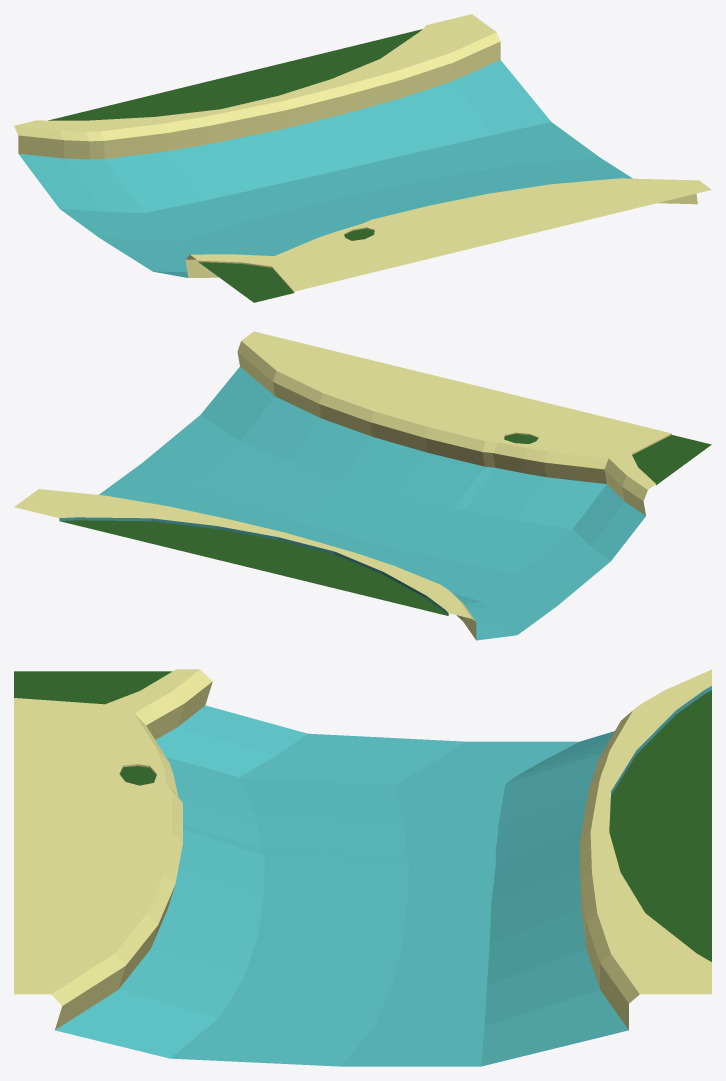
The model's file is Pescaria mapa V1.fbx.
3 renders of one model, top to bottom at view 1: azimuth 30°, elevation 25°; view 2: azimuth 150°, elevation 25°; view 3: azimuth 270°, elevation 25°, orthographic. The views are drawn at different scales.
Parts seen in each view (by area): view 1: Plane; view 2: Plane; view 3: Plane.
Part boxes in pixels (left/top/right/bottom): Plane: left=14, top=14, right=711, bottom=302; Plane: left=14, top=331, right=711, bottom=640; Plane: left=14, top=669, right=711, bottom=1066.
Size of the model in its own units: 30977 by 3211 by 28120.
